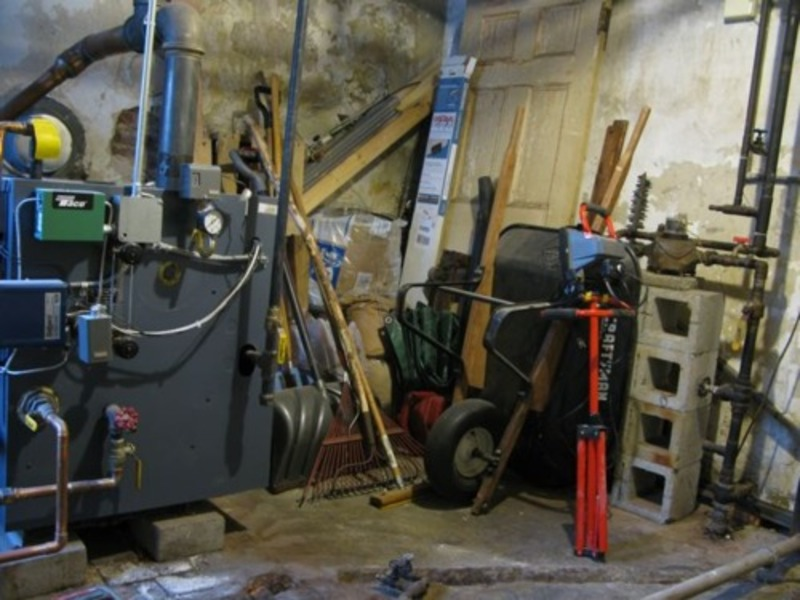valve: (103, 436, 157, 502), (724, 292, 768, 348), (14, 396, 60, 438)
